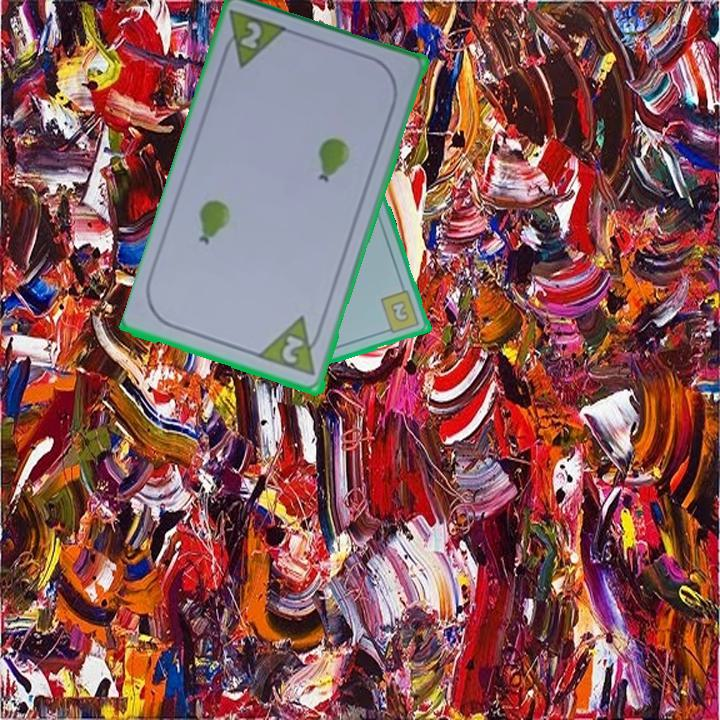2b: (377, 287, 423, 336)
2p: (216, 6, 292, 73), (278, 332, 307, 367)
